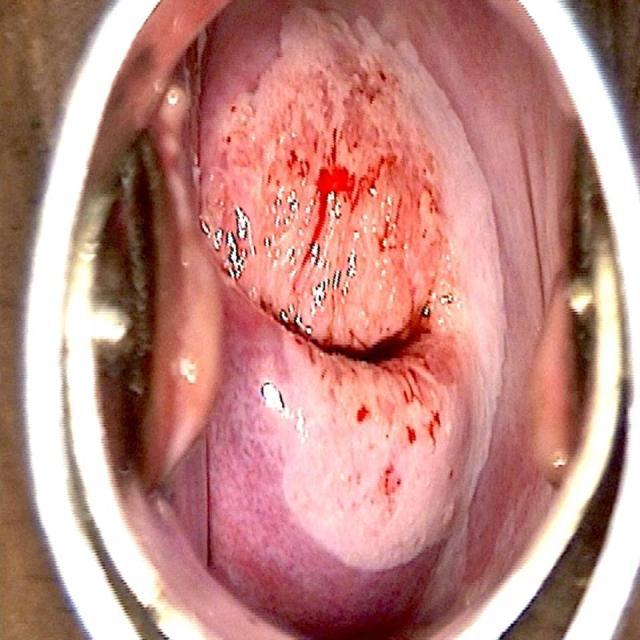cervical_lesion: (181, 9, 508, 572)
